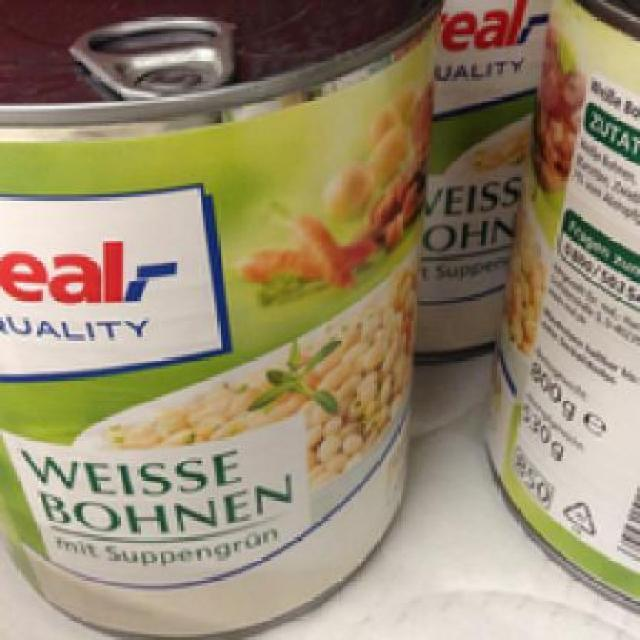Beans: (0, 0, 443, 629), (486, 0, 634, 609)
